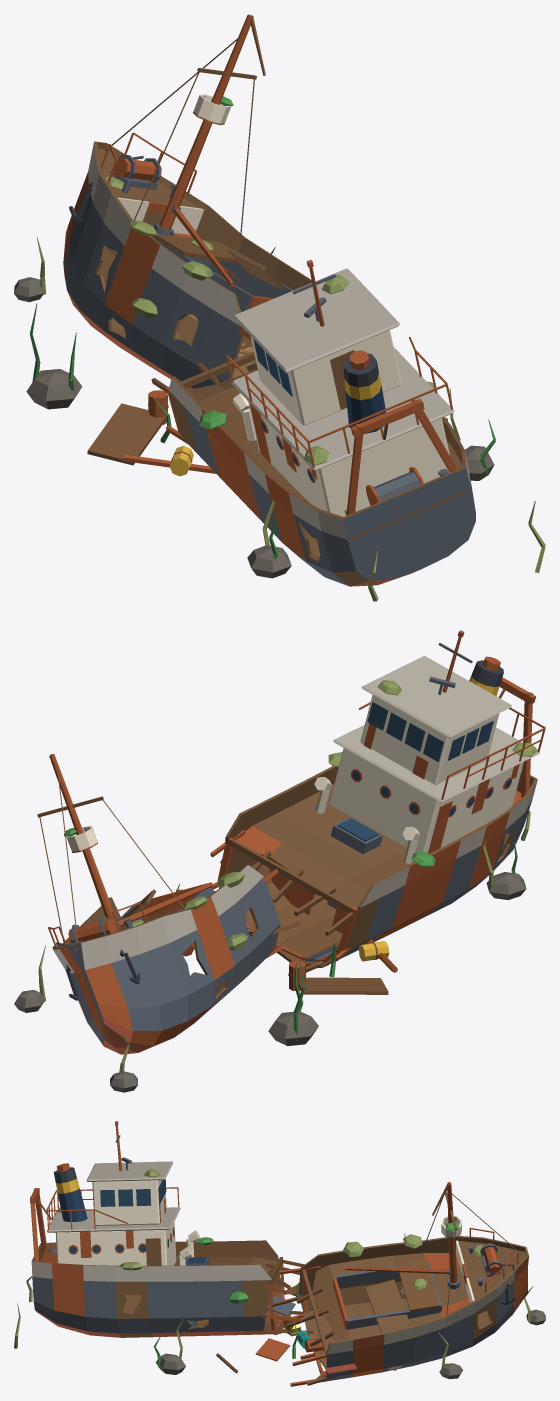
File: shipwreck.glb
3 renders of one model, top to bottom at view 1: azimuth 30°, elevation 25°; view 2: azimuth 150°, elevation 25°; view 3: azimuth 270°, elevation 25°, orthographic. The views are drawn at different scales.
Visible parts, largest first — view 1: Hull_Stern, Hull_Bow, Debris, Seaweed; view 2: Hull_Stern, Hull_Bow, Debris, Seaweed; view 3: Hull_Stern, Hull_Bow, Debris, Seaweed.
Part boxes in pixels (bbox=[...]): Hull_Stern: bbox=[151, 259, 475, 586]; Hull_Bow: bbox=[63, 14, 311, 389]; Debris: bbox=[14, 277, 494, 578]; Seaweed: bbox=[29, 237, 545, 601]; Hull_Stern: bbox=[210, 630, 545, 972]; Hull_Bow: bbox=[37, 754, 300, 1054]; Debris: bbox=[14, 860, 526, 1092]; Seaweed: bbox=[38, 810, 530, 1072]; Hull_Stern: bbox=[30, 1121, 312, 1337]; Hull_Bow: bbox=[272, 1182, 528, 1386]; Debris: bbox=[156, 1278, 545, 1379]; Seaweed: bbox=[14, 1233, 533, 1367].
Bounding box in the file's own units: 10.68 × 10.99 × 25.05.
